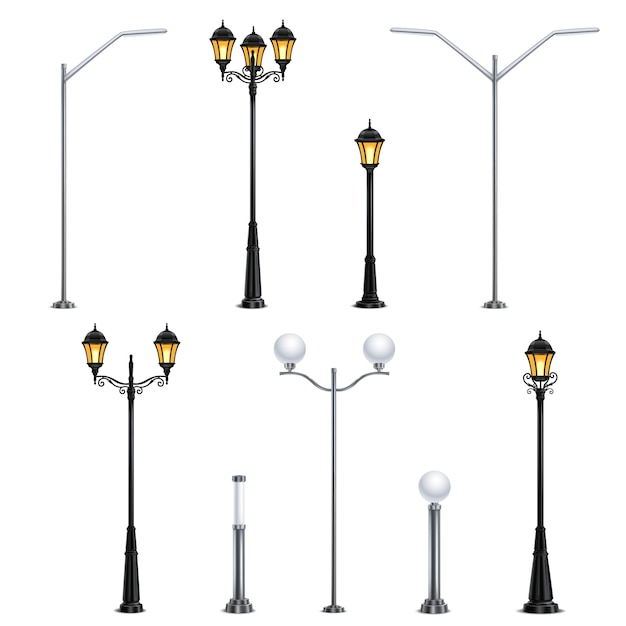Lamp: (389, 23, 610, 316), (266, 327, 394, 612), (47, 28, 174, 312), (78, 321, 185, 614), (204, 18, 306, 307), (510, 326, 568, 617), (340, 117, 407, 311)
